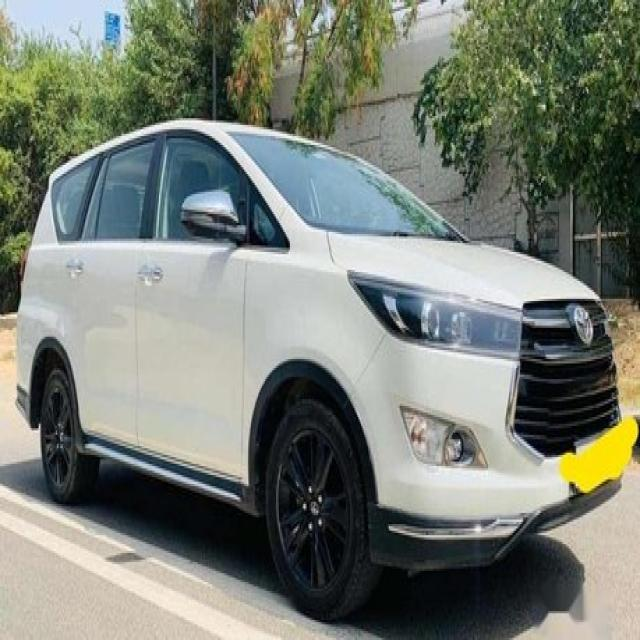light_vehicle: (14, 119, 633, 621)
